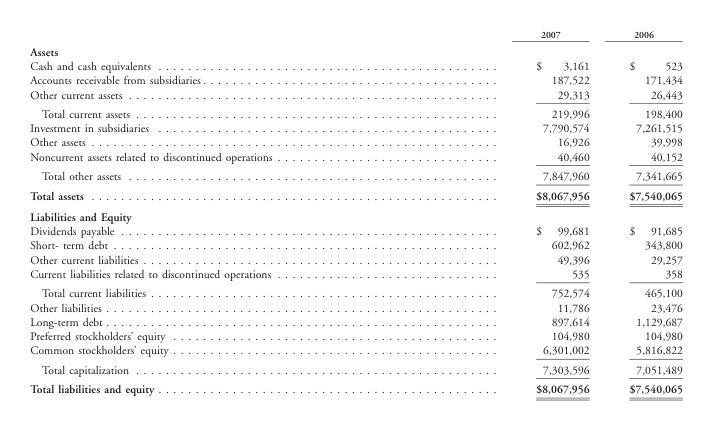table: (29, 28, 681, 395)
table column: (29, 28, 403, 395), (403, 28, 608, 395), (608, 28, 681, 395)
table column header: (29, 28, 681, 42)
table projected row header: (29, 205, 681, 223), (29, 42, 681, 58)
table row: (29, 185, 681, 205), (29, 166, 681, 185), (29, 359, 681, 378), (29, 205, 681, 223), (29, 103, 681, 120), (29, 149, 681, 166), (29, 266, 681, 283), (29, 283, 681, 300), (29, 342, 681, 359), (29, 378, 681, 395), (29, 42, 681, 58), (29, 87, 681, 103), (29, 72, 681, 87), (29, 134, 681, 149), (29, 237, 681, 252), (29, 28, 681, 42), (29, 58, 681, 72), (29, 120, 681, 134), (29, 223, 681, 237), (29, 252, 681, 266), (29, 300, 681, 314), (29, 314, 681, 328), (29, 328, 681, 342)
